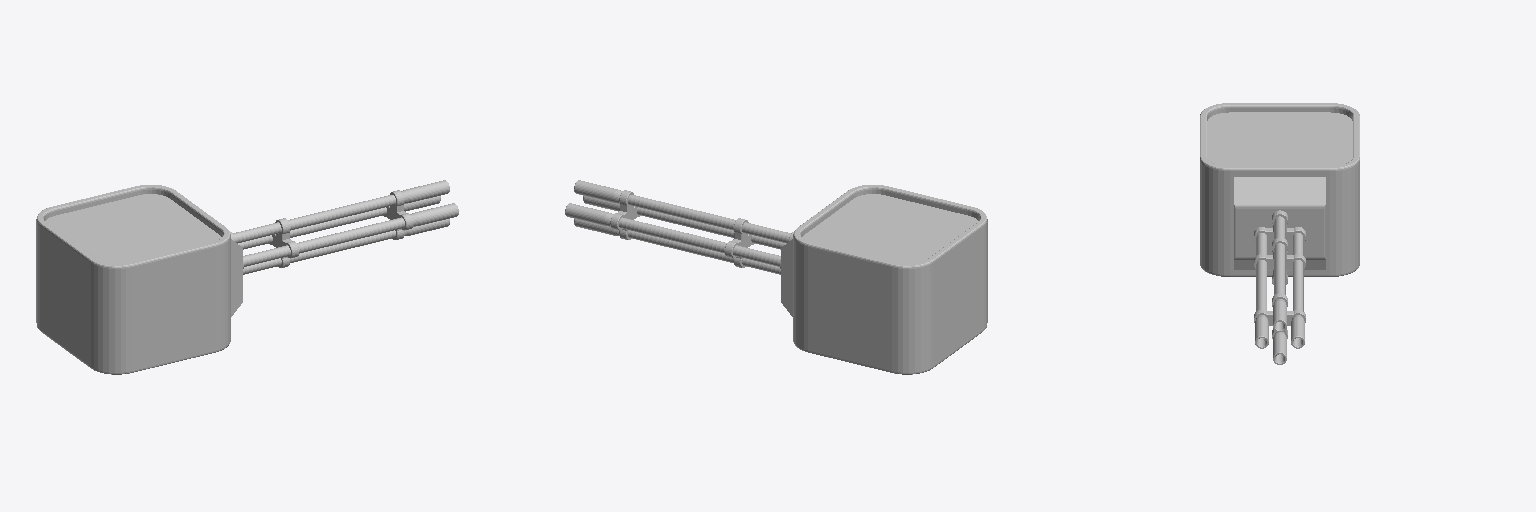
The model's file is minigun.obj.
The picture shows the model from 3 angles: view 1: azimuth 30°, elevation 25°; view 2: azimuth 150°, elevation 25°; view 3: azimuth 270°, elevation 25°; orthographic projection.
Visible parts, largest first — view 1: Cylinder.001; view 2: Cylinder.001; view 3: Cylinder.001.
Boxes of the visible parts, x1,y1,x2,y2 form: Cylinder.001: [36, 180, 458, 374]; Cylinder.001: [565, 180, 987, 374]; Cylinder.001: [1200, 103, 1359, 364].
Size of the model in its own units: 1.79 by 0.5453 by 0.6542.